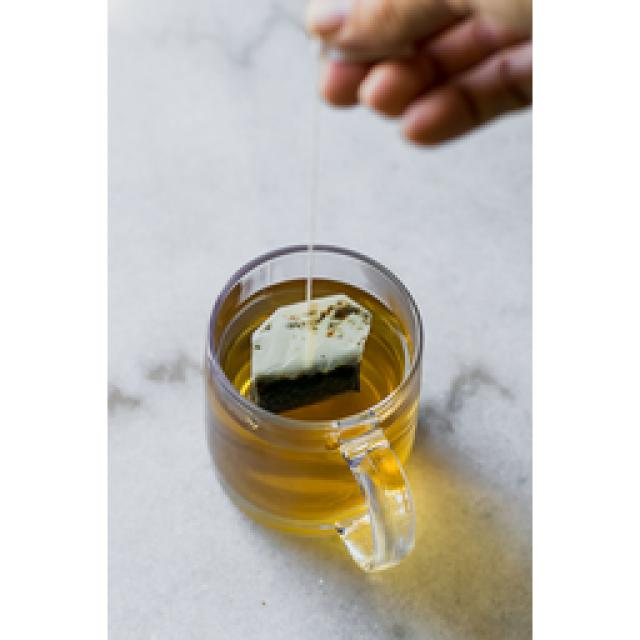tea-bags: (251, 295, 373, 414)
